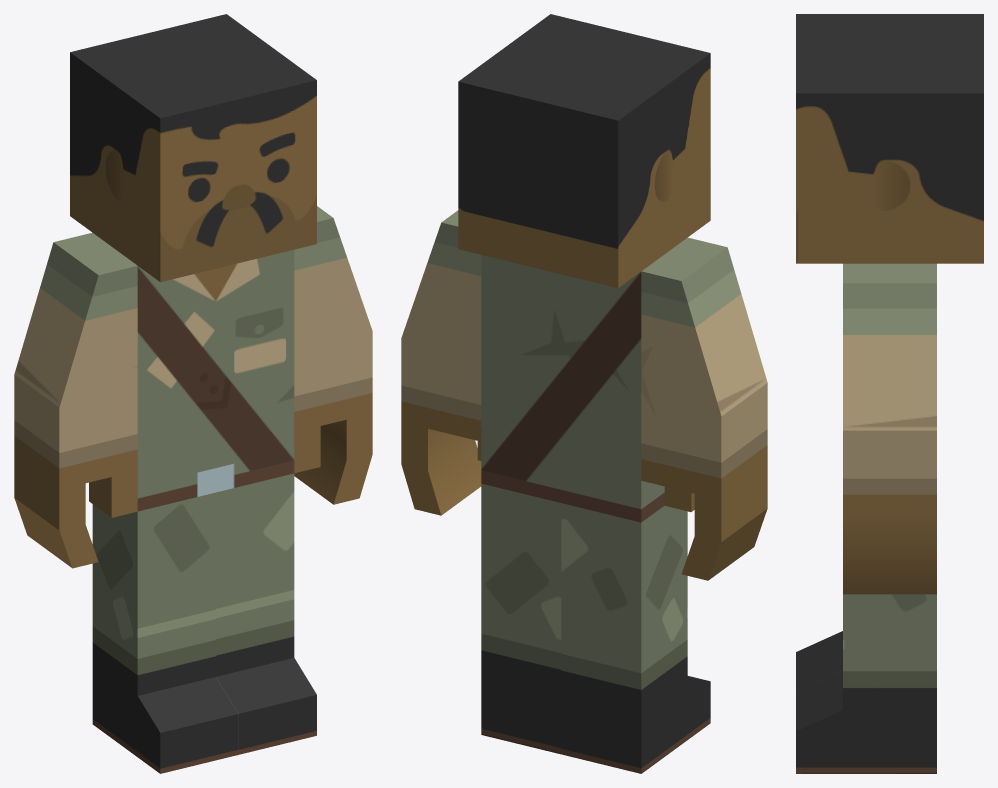
File: advanced_soldier.glb
The picture shows the model from 3 angles, left to right: view 1: azimuth 30°, elevation 25°; view 2: azimuth 150°, elevation 25°; view 3: azimuth 270°, elevation 25°; orthographic projection. The views are drawn at different scales.
Visible parts, largest first — view 1: Head1, Body1, ArmRight1, LegRight1, LegLeft1, ArmLeft1; view 2: Head1, Body1, ArmRight1, LegRight1, LegLeft1, ArmLeft1; view 3: Head1, ArmLeft1, LegLeft1, LegRight1.
Part boxes in pixels (left/top/right/bottom): Head1: left=70, top=14, right=316, bottom=282; Body1: left=137, top=249, right=294, bottom=511; ArmRight1: left=14, top=232, right=137, bottom=568; LegRight1: left=92, top=492, right=238, bottom=773; LegLeft1: left=216, top=473, right=316, bottom=754; ArmLeft1: left=294, top=206, right=372, bottom=504; Head1: left=458, top=14, right=710, bottom=287; Body1: left=481, top=255, right=664, bottom=522; ArmRight1: left=641, top=237, right=767, bottom=580; LegRight1: left=561, top=503, right=710, bottom=773; LegLeft1: left=481, top=483, right=561, bottom=754; ArmLeft1: left=401, top=210, right=481, bottom=515; Head1: left=796, top=14, right=983, bottom=263; ArmLeft1: left=843, top=263, right=936, bottom=594; LegLeft1: left=796, top=594, right=936, bottom=773; LegRight1: left=796, top=631, right=842, bottom=691.
Bounding box in the file's own units: 8 × 16 × 4.
Materials: 1 (1 with a texture image).
